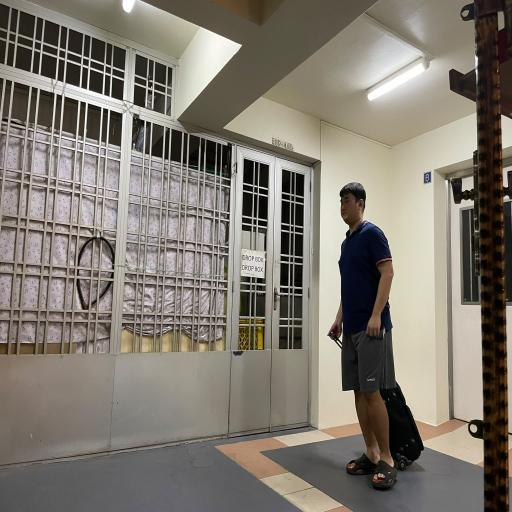person_left: (324, 170, 432, 492)
